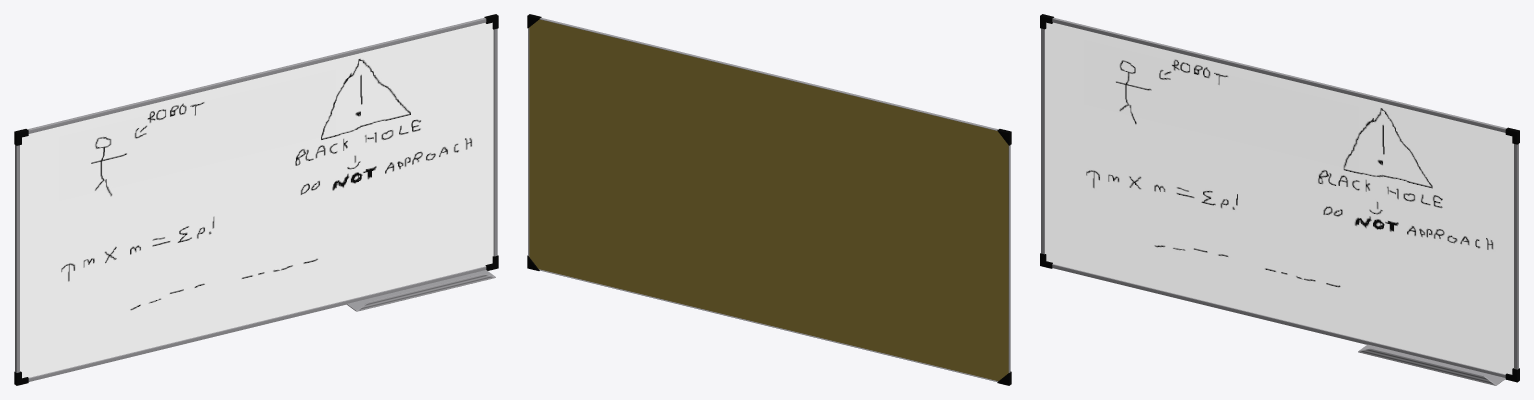
Rendered from tableau.glb.
The picture shows the model from 3 angles, left to right: view 1: azimuth 30°, elevation 25°; view 2: azimuth 150°, elevation 25°; view 3: azimuth 330°, elevation 25°; orthographic projection.
Visible parts, largest first — view 1: Whiteboard.001; view 2: Whiteboard.001; view 3: Whiteboard.001.
Boxes of the visible parts, x1,y1,x2,y2 form: Whiteboard.001: (14,14,498,385); Whiteboard.001: (527,14,1011,385); Whiteboard.001: (1040,14,1519,385).
Bounding box in the file's own units: 2.42 × 1.21 × 0.1042.
4 materials, 1 textured.
